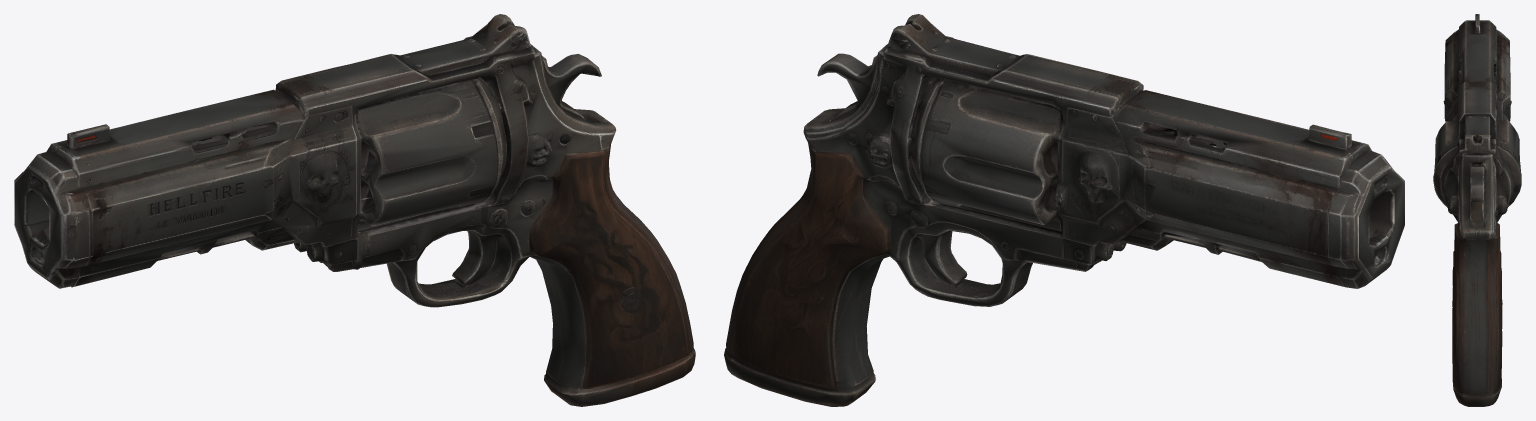
File: revolver.glb
3 views of the same model, side by side, from view 1: azimuth 30°, elevation 25°; view 2: azimuth 150°, elevation 25°; view 3: azimuth 270°, elevation 25° (orthographic). The views are drawn at different scales.
Parts seen in each view (by area): view 1: Mesh1.0; view 2: Mesh1.0; view 3: Mesh1.0.
Boxes of the visible parts, x1,y1,x2,y2 form: Mesh1.0: [14, 14, 695, 406]; Mesh1.0: [724, 14, 1404, 406]; Mesh1.0: [1433, 14, 1521, 406].
Bounding box in the file's own units: 1.91 × 1.1 × 0.3877.
1 material, 1 textured.
